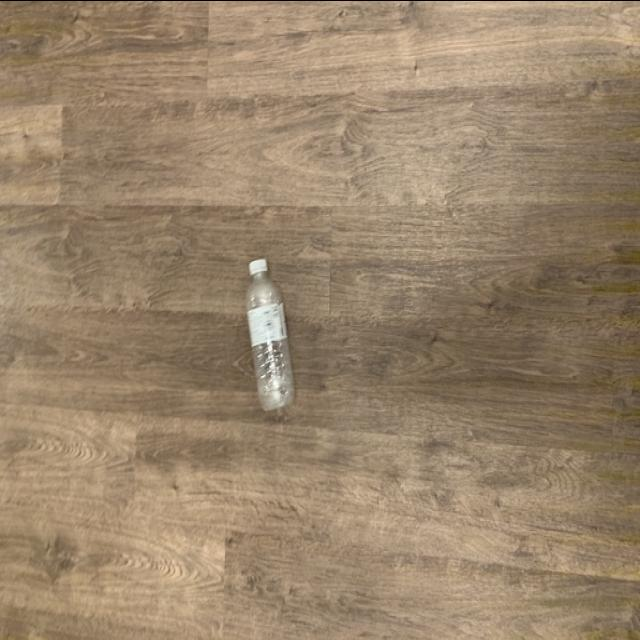PET: (245, 253, 298, 412)
